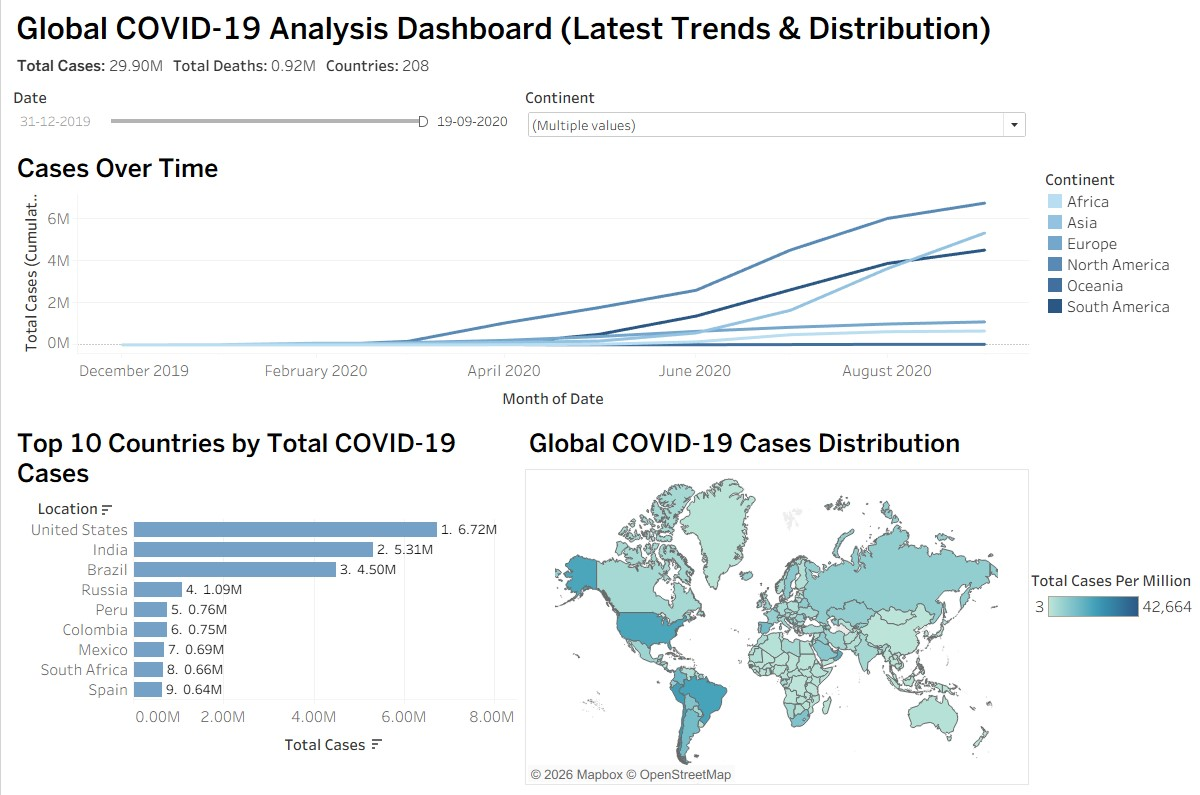

What the dashboard file says about the page in this screenshot:
{"tool":"tableau","page":{"name":"Dashboard 1","canvas":[1200,800],"ordinal":0},"visuals":[{"type":"title","box":[8,8,1184,46]},{"type":"worksheet","title":"Sheet 4","mark":"Automatic","box":[8,54,1184,29]},{"type":"filter","title":"bar","param":"[federated.1o7xmdw1y7fimn107xwqh0nn1fbj].[none:date:qk]","box":[8,86,512,61.5]},{"type":"filter","title":"bar","param":"[federated.1o7xmdw1y7fimn107xwqh0nn1fbj].[none:continent:nk]","box":[520,86,512,61]},{"type":"worksheet","title":"line","mark":"Automatic","rows":["total_cases"],"cols":["date"],"box":[8,147.5,1024,275.3]},{"type":"legend","title":"line","param":"[federated.1o7xmdw1y7fimn107xwqh0nn1fbj].[none:continent:nk]","box":[1044,172,140,148]},{"type":"worksheet","title":"bar","mark":"Bar","rows":["location"],"cols":["total_cases"],"box":[8,422.8,512,369.2]},{"type":"worksheet","title":"map","mark":"Automatic","box":[520,422.8,512,369.2]},{"type":"legend","title":"map","param":"[federated.1o7xmdw1y7fimn107xwqh0nn1fbj].[max:total_cases_per_million:qk]","box":[1030,573,166,101]}]}

Visuals, with their boxes in screenshot pixels (x1, y1, x2, y2), scaled from the page's 1200x800 canvas onto the 1200x795 screenshot:
title: (8, 8, 1192, 54)
"Sheet 4" worksheet: (8, 54, 1192, 82)
"bar" filter: (8, 85, 520, 147)
"bar" filter: (520, 85, 1032, 146)
"line" worksheet: (8, 147, 1032, 420)
"line" legend: (1044, 171, 1184, 318)
"bar" worksheet (Bar marks): (8, 420, 520, 787)
"map" worksheet: (520, 420, 1032, 787)
"map" legend: (1030, 569, 1196, 670)
